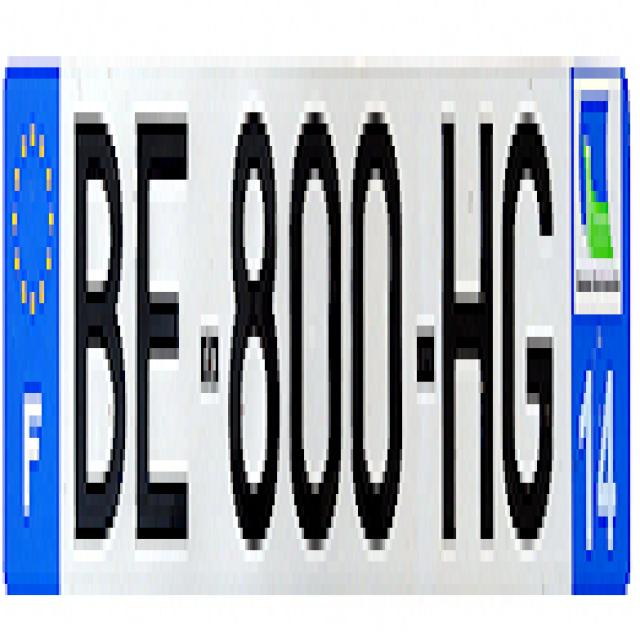EU: (0, 45, 633, 606)
France: (2, 52, 59, 601)
